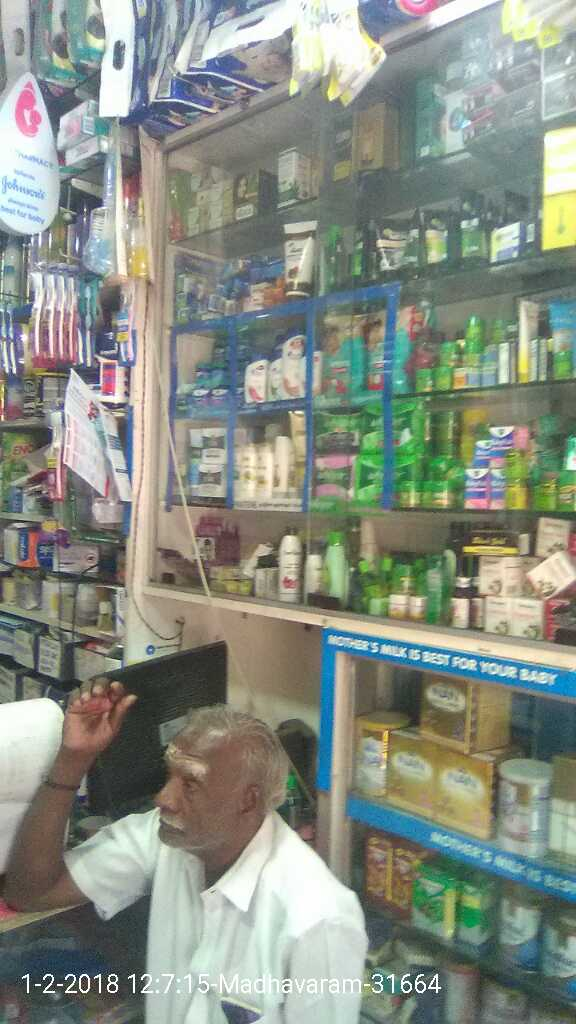oralcare: (29, 265, 87, 370), (115, 281, 133, 366), (47, 410, 64, 500)
vicks: (182, 334, 244, 407)
